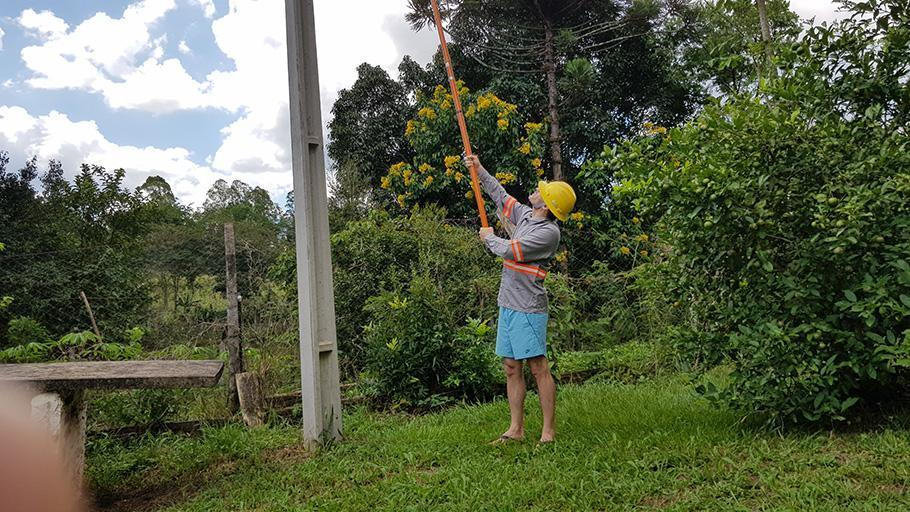helmet: (526, 174, 575, 225)
